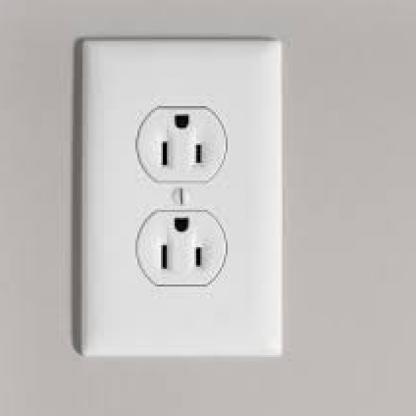OUTLET: (81, 39, 281, 359)
